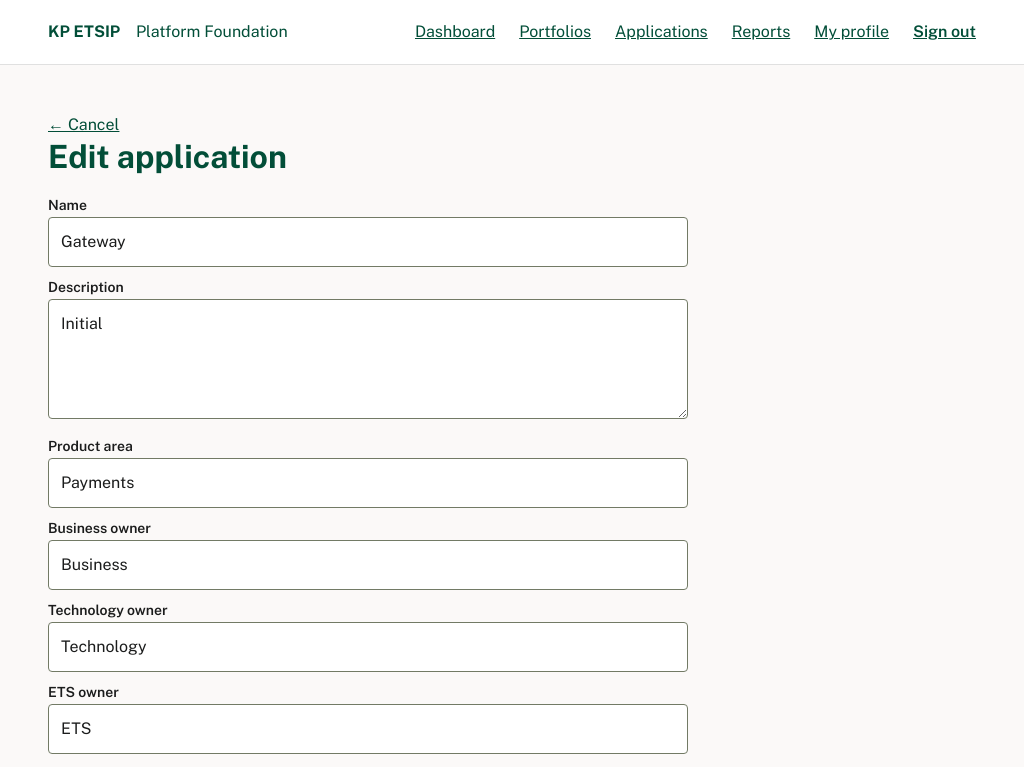
Test: application inventory › submits edited fields and navigates to detail
This screenshot has width=1024, height=767.
Replace the text in the text box labelled "Description" with "Updated": coordinates (368, 359) top-left (48, 299), bottom-right (688, 419)
(page scrolled)
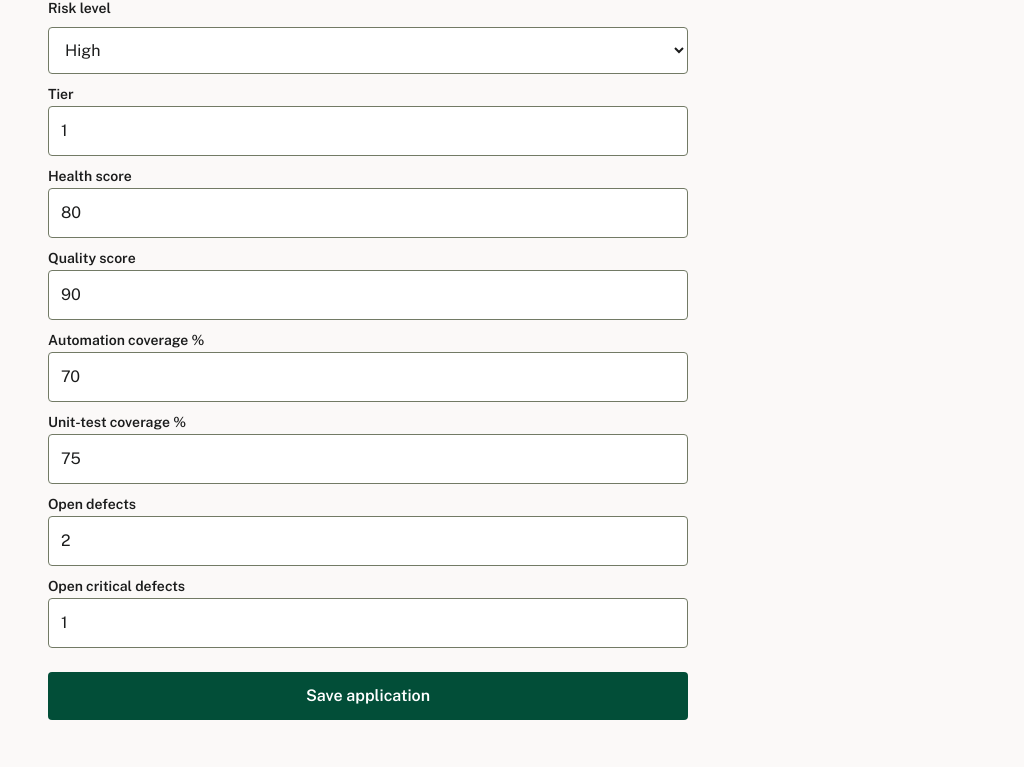
Click the button "Save application": coordinates (368, 696) top-left (48, 672), bottom-right (688, 720)
(page scrolled)
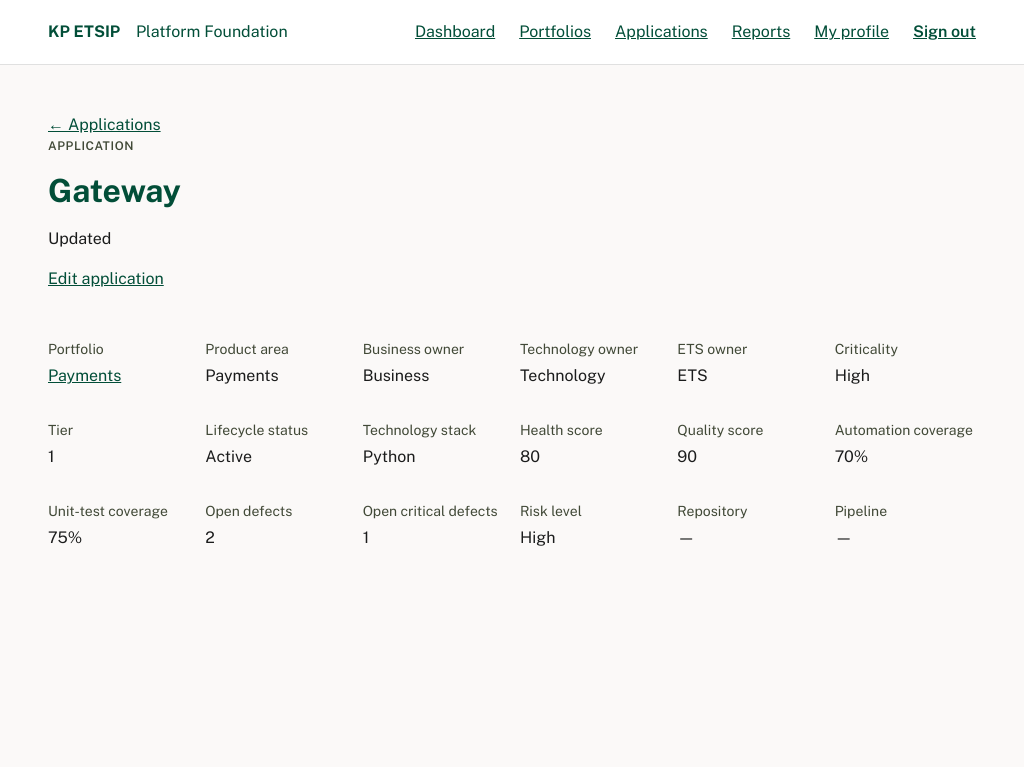
Expected: the heading "Gateway" is shown, top-left (48, 172), bottom-right (181, 209)
Expected: the text "Updated" is shown, top-left (48, 229), bottom-right (111, 248)
